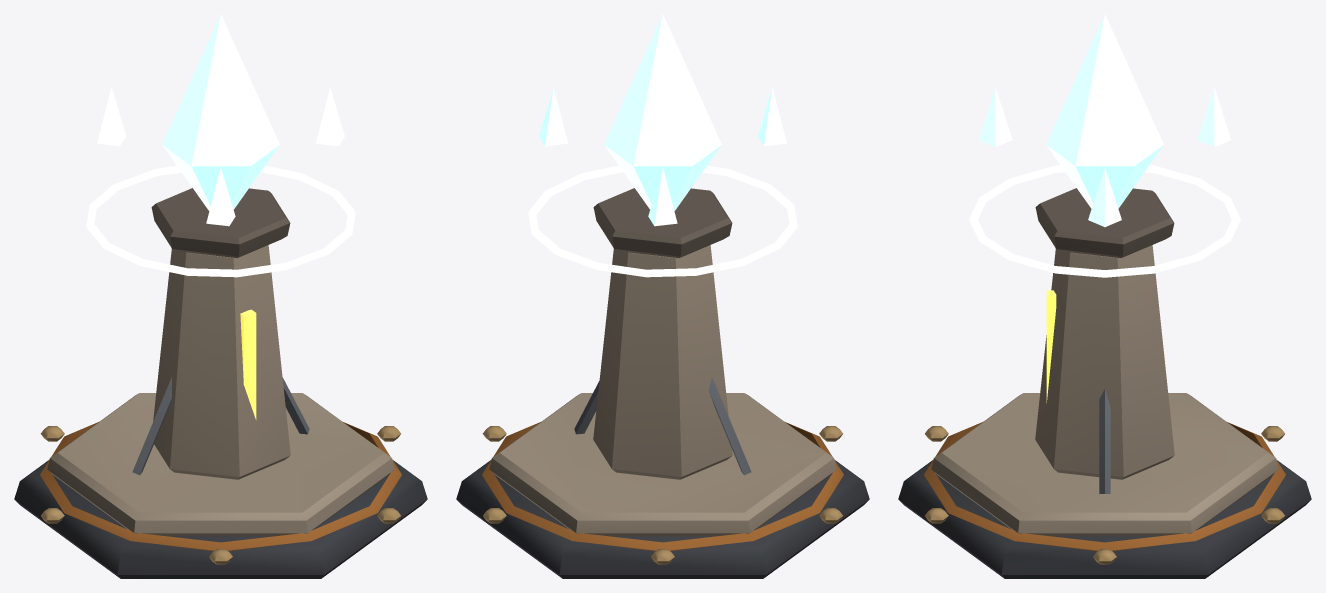
The model's file is nains_8.glb.
The picture shows the model from 3 angles, left to right: view 1: azimuth 30°, elevation 25°; view 2: azimuth 150°, elevation 25°; view 3: azimuth 270°, elevation 25°; orthographic projection.
Parts seen in each view (by area): view 1: nains_8_peint, Cristal_lueur, Givre, Eclats_lueur, Rune; view 2: nains_8_peint, Cristal_lueur, Givre, Eclats_lueur; view 3: nains_8_peint, Cristal_lueur, Givre, Eclats_lueur, Rune.
Boxes of the visible parts, box(x1,y1,x2,y2) form: nains_8_peint: box(14, 188, 427, 578); Cristal_lueur: box(162, 14, 279, 210); Givre: box(86, 165, 355, 277); Eclats_lueur: box(97, 88, 344, 226); Rune: box(240, 309, 256, 419); nains_8_peint: box(456, 188, 869, 578); Cristal_lueur: box(604, 14, 721, 210); Givre: box(528, 165, 797, 277); Eclats_lueur: box(539, 88, 786, 226); nains_8_peint: box(898, 188, 1311, 578); Cristal_lueur: box(1046, 14, 1163, 208); Givre: box(969, 165, 1240, 277); Eclats_lueur: box(979, 87, 1231, 226); Rune: box(1046, 290, 1056, 402).
Size of the model in its own units: 0.8434 by 1.12 by 0.8517.
